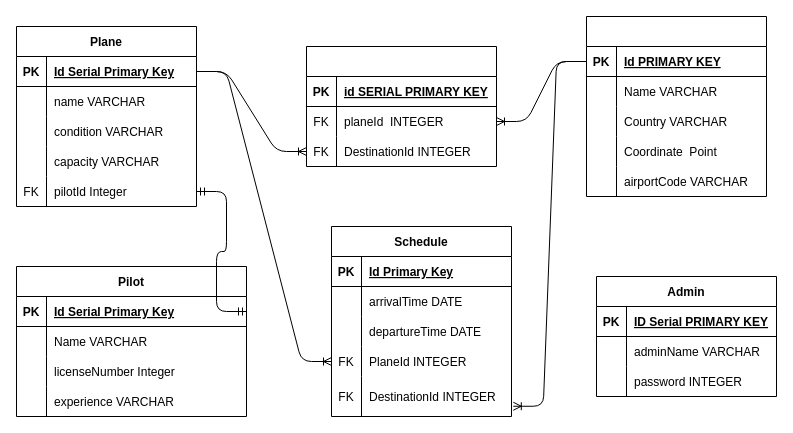
This 793x433 diagram has some shape labels left out. The box of each missing label's shape, as (x1, y1, x2, y2) in pixels:
Destination: (586, 16, 766, 196)
Flight_assignment: (306, 46, 496, 166)
